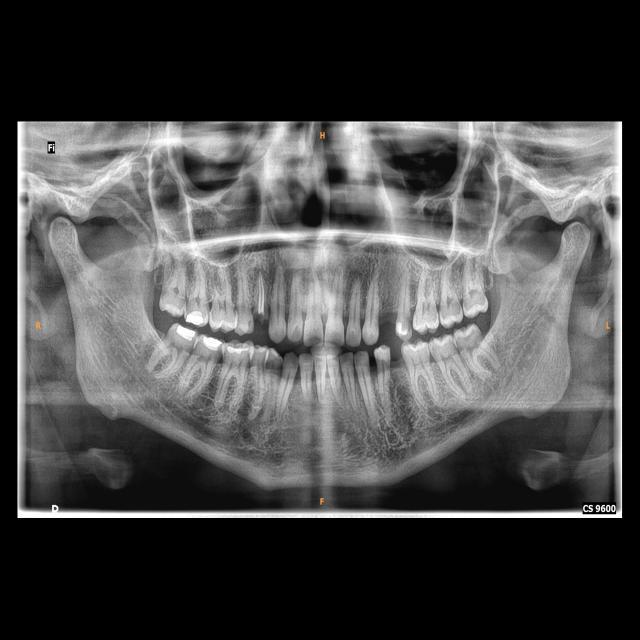dolgu: (172, 323, 197, 346), (197, 333, 222, 356), (184, 305, 208, 327)
kanal-tedavisi: (253, 272, 269, 314)
kirik: (251, 309, 271, 329)
